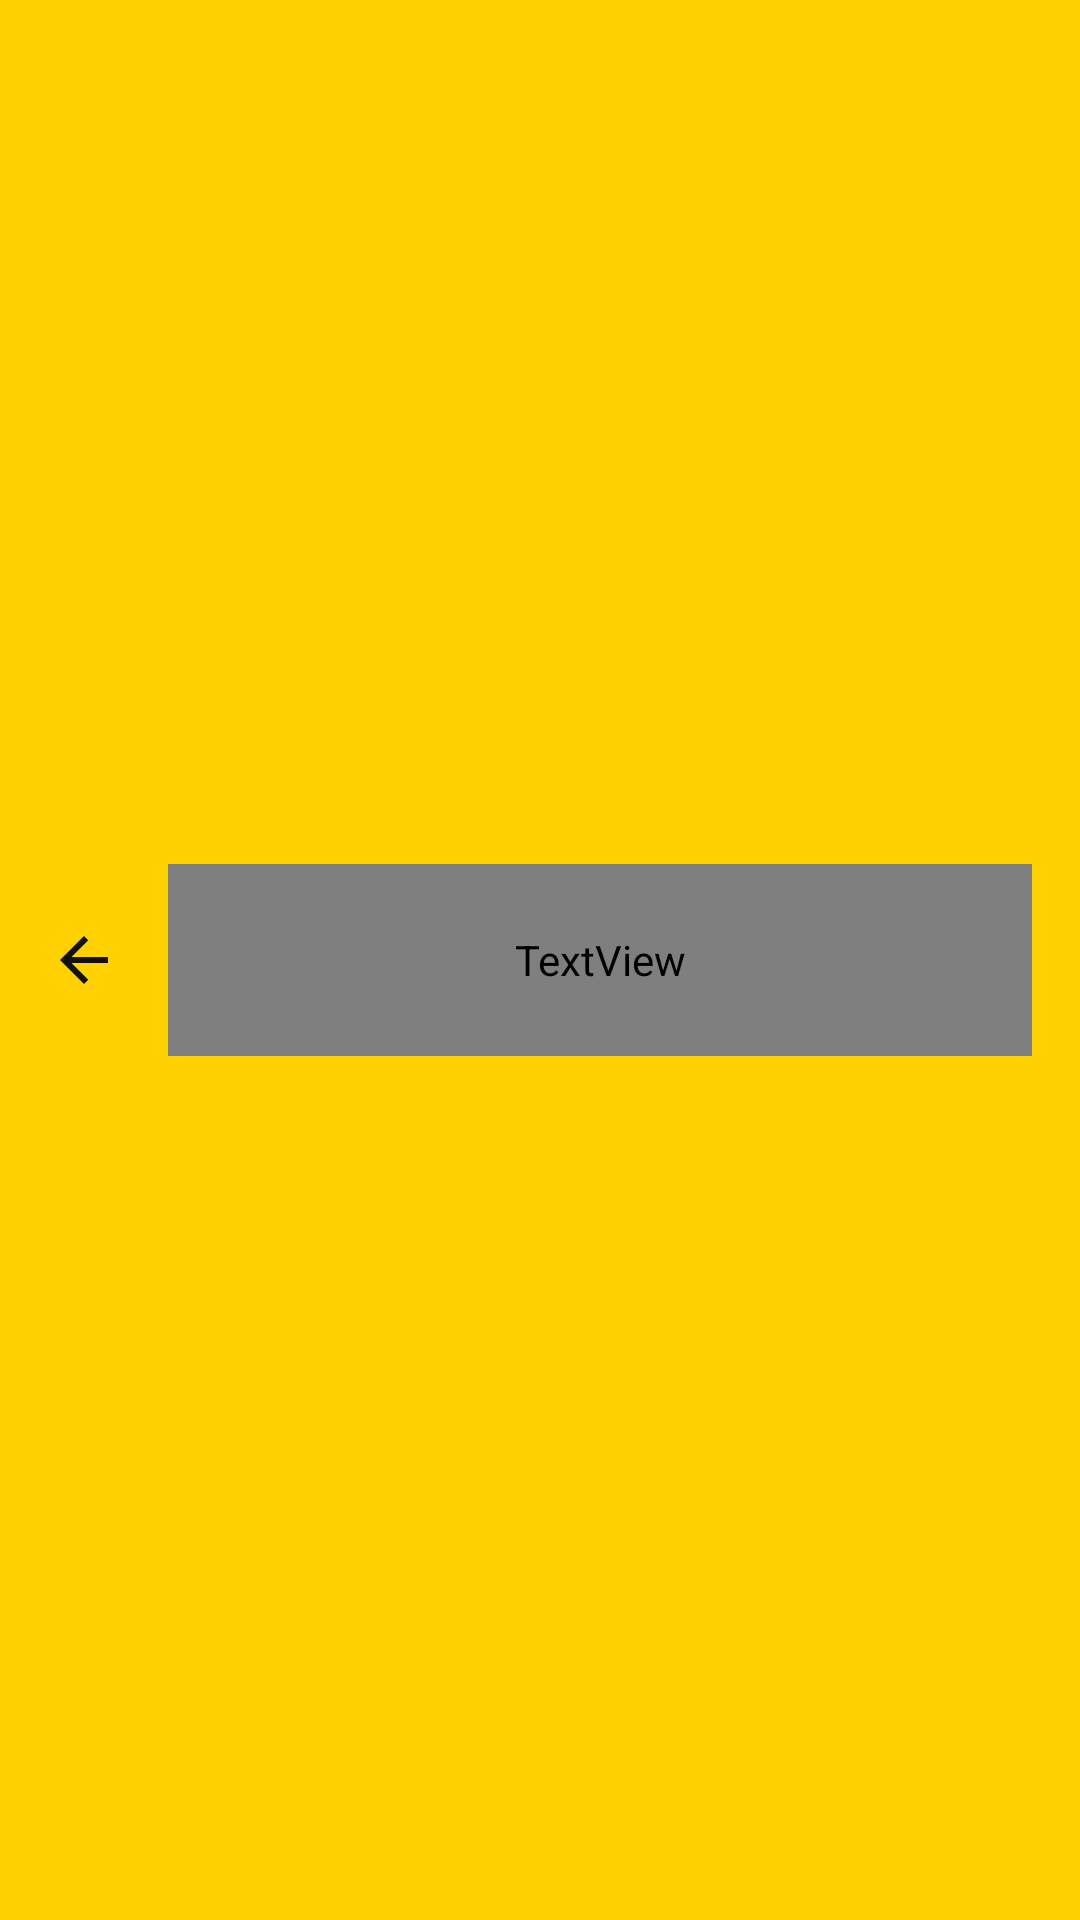

Icons on this 1080px x 1920px Android screen, each with its box as rect(x1, y1, x2, y2):
Back: rect(60, 936, 108, 984)
